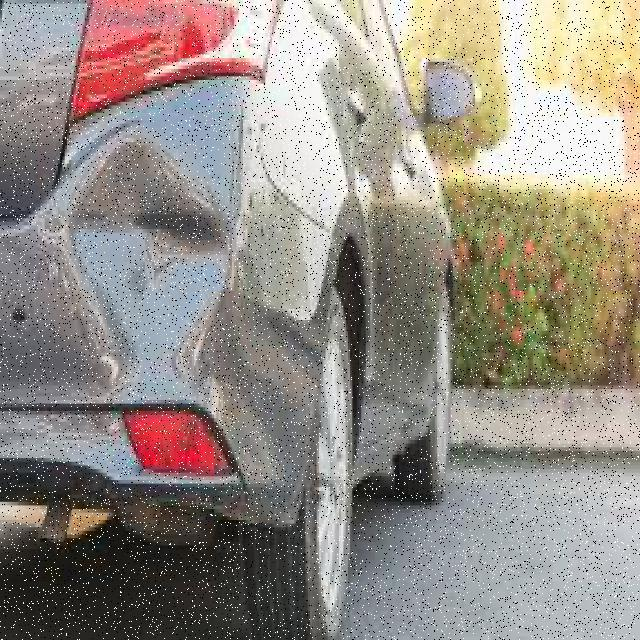rear-bumper-dent: (0, 113, 326, 550)
